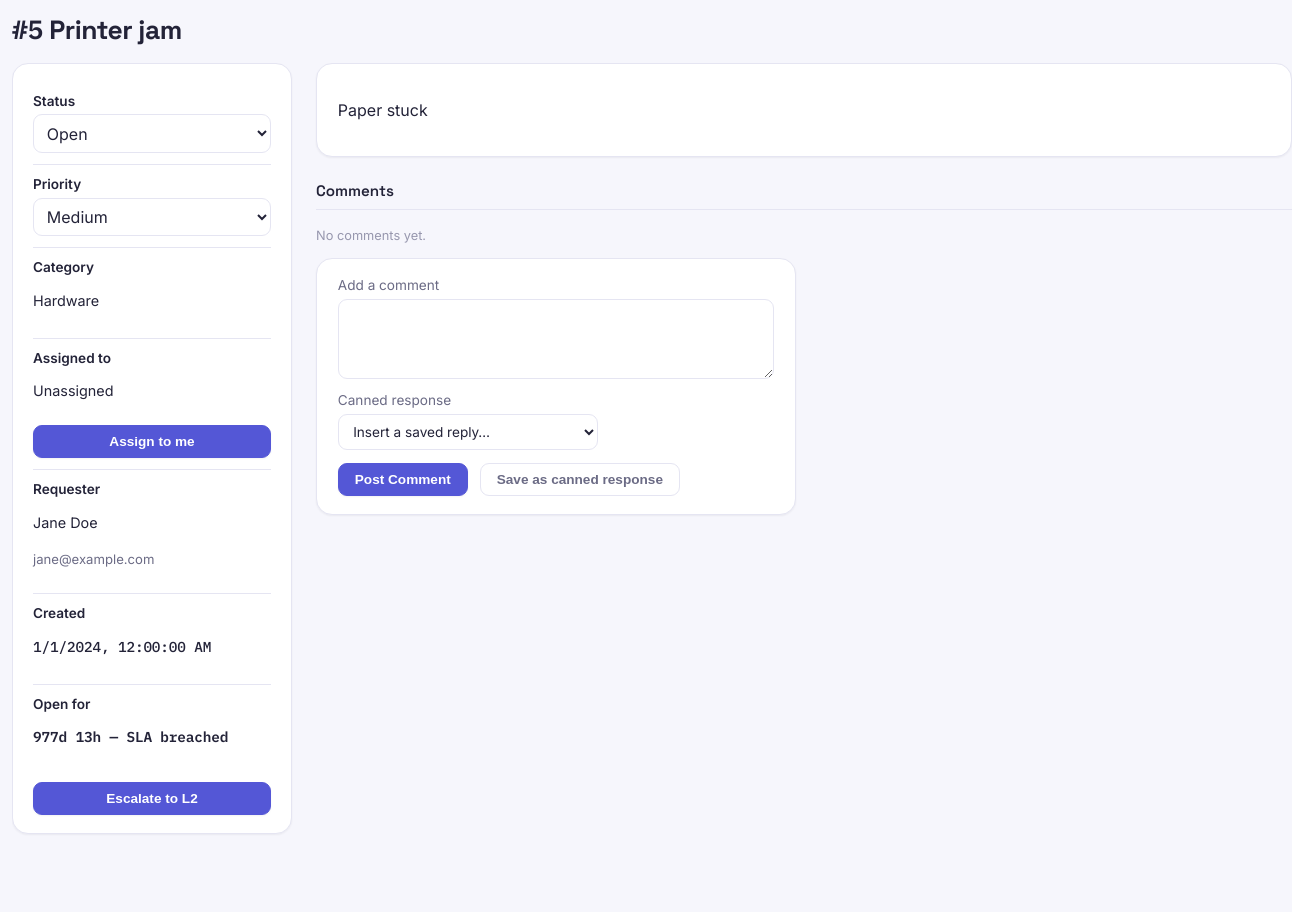
TicketDetailPage › shows a toast after posting a comment
The image size is (1292, 912).
Expected: the heading "#5 Printer jam" is shown, 12,12 -> 182,47
In the text box labelled "Add a comment": (556, 339) 338,299 -> 774,379, type "Looking into it"
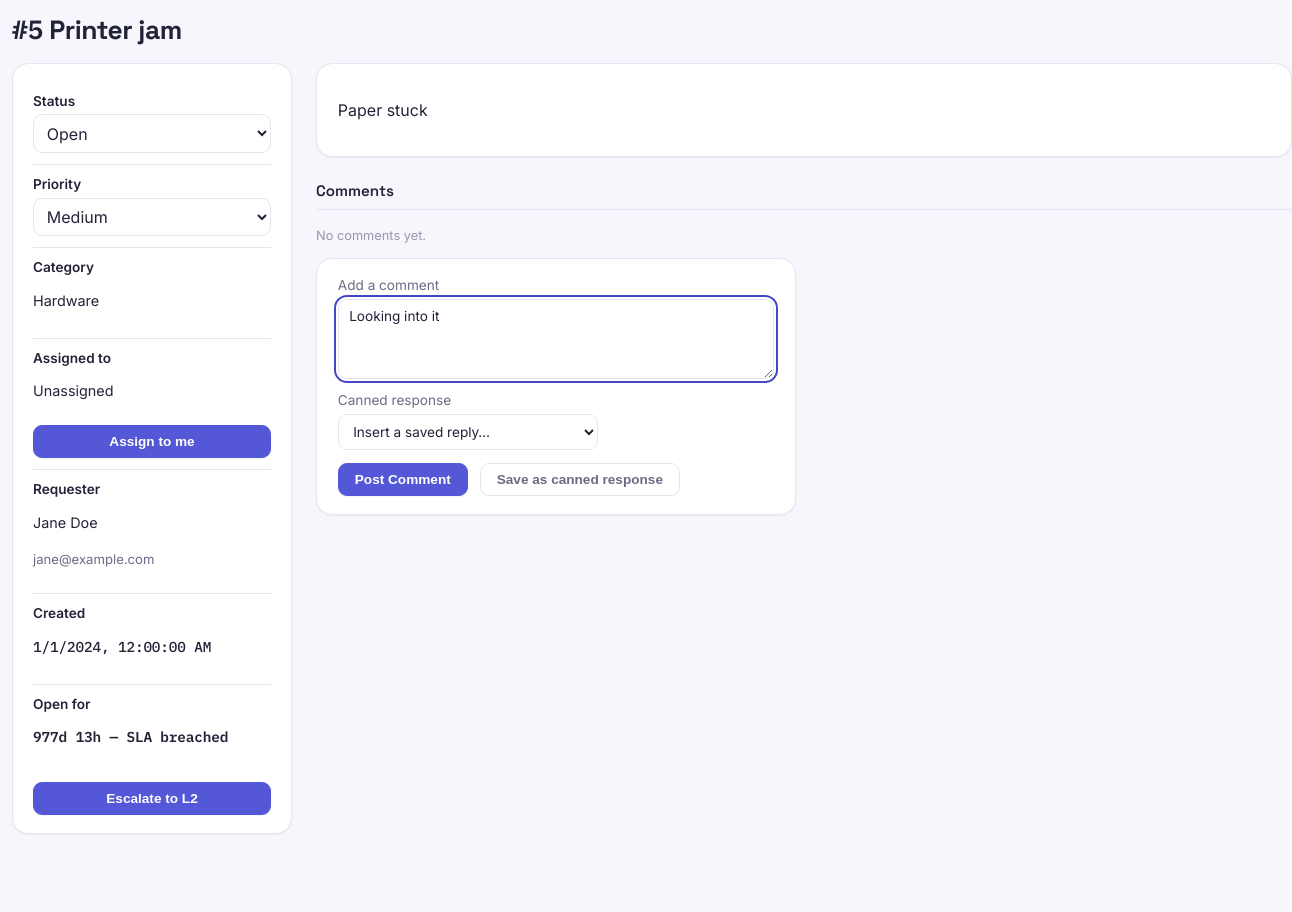
Click the button "Post Comment": (403, 480) 338,463 -> 468,496
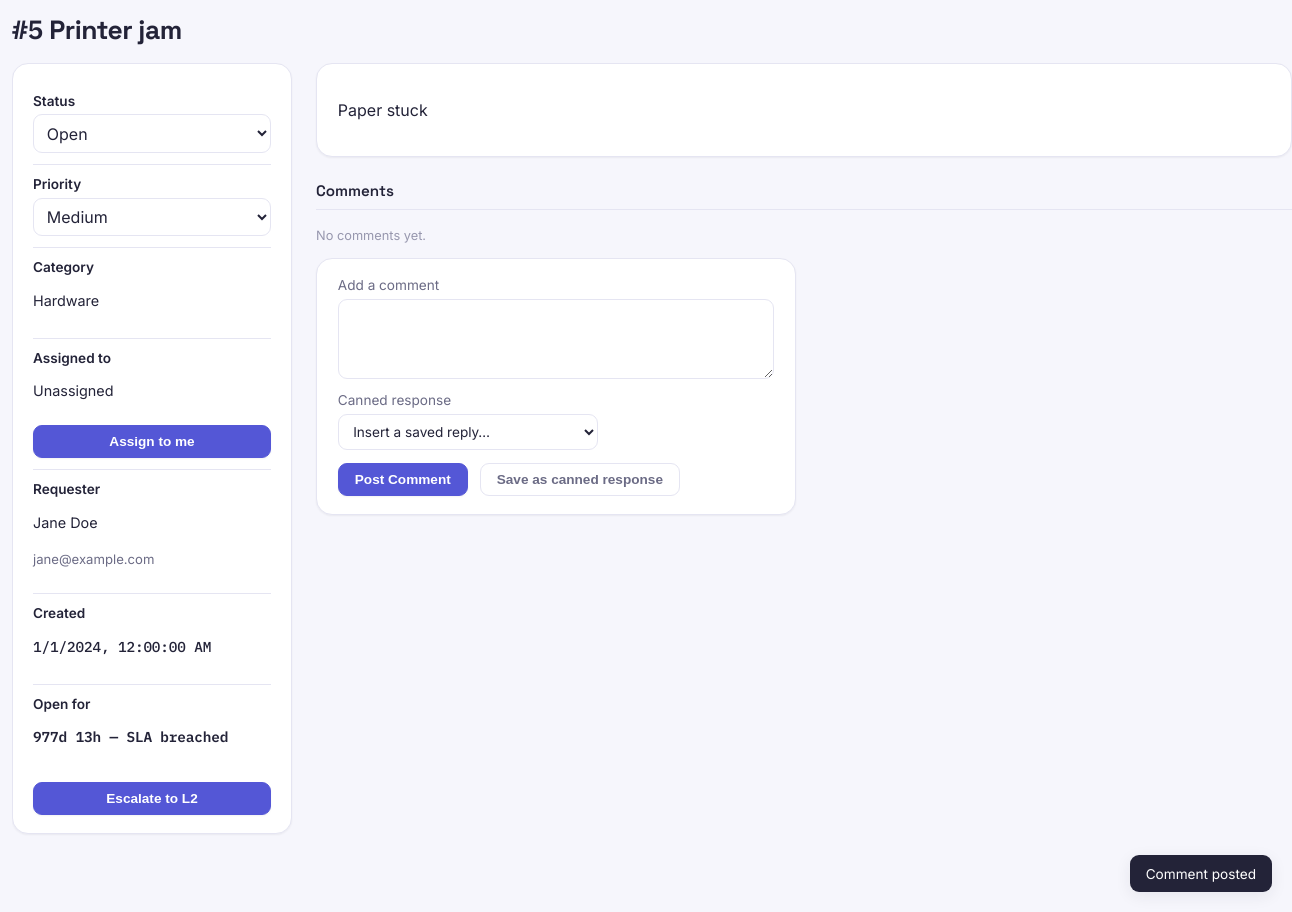
Result: the text "Comment posted" is shown at 1130,855 -> 1272,892
